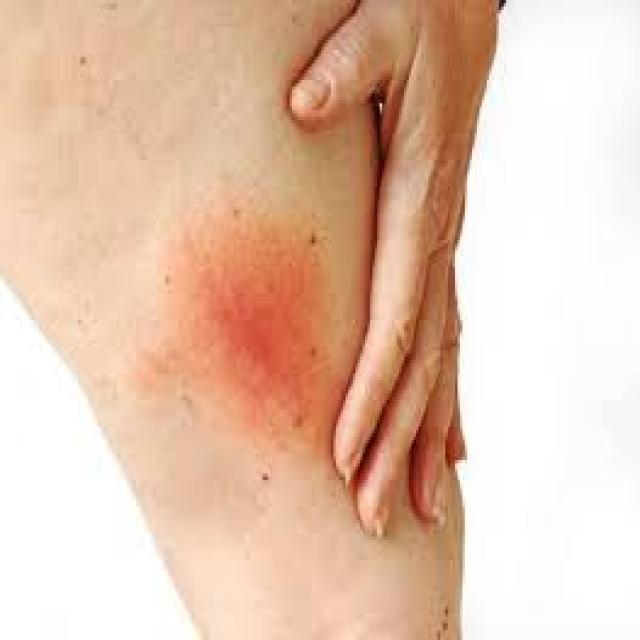kene: (164, 219, 333, 446)
